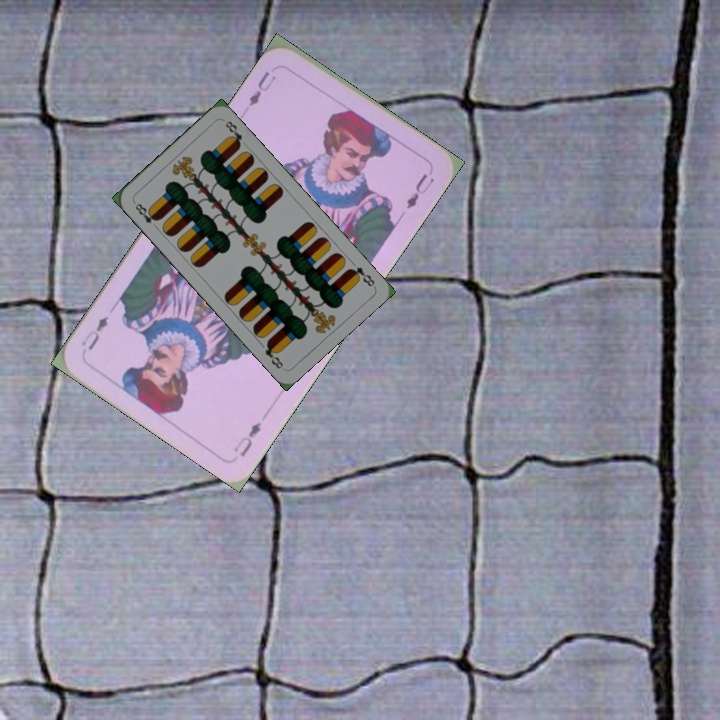E8: (130, 198, 162, 231), (344, 262, 377, 289)
EU: (240, 67, 279, 114), (229, 417, 264, 459)
